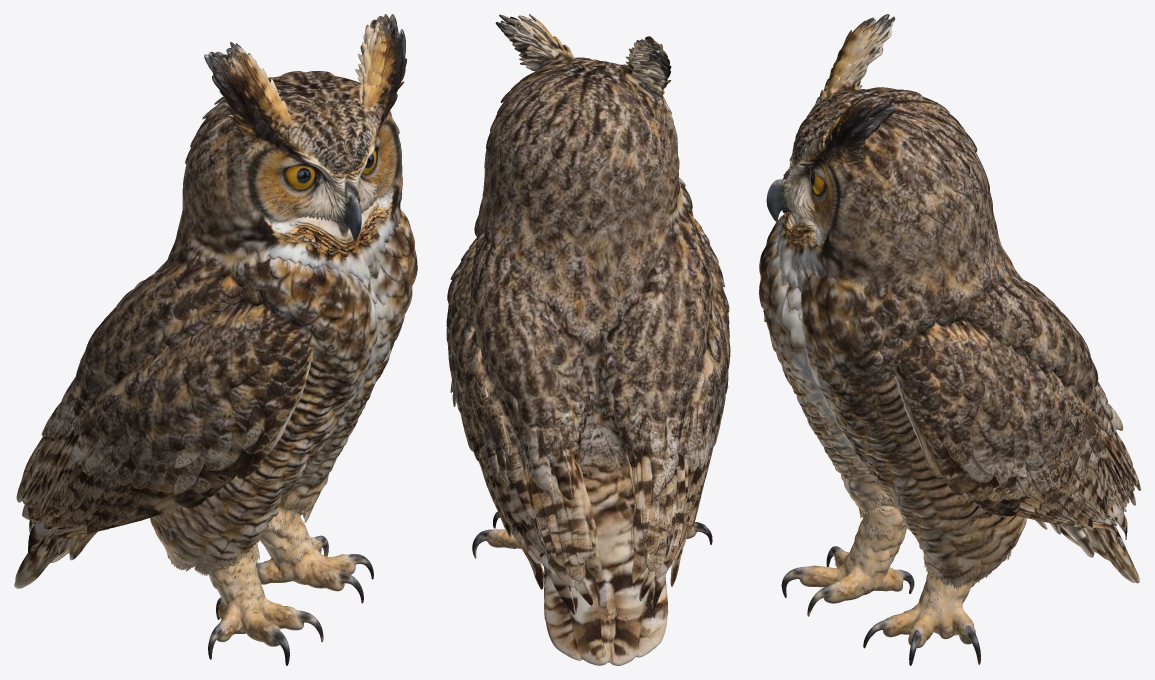
Rendered from owl.meshopt.glb.
The picture shows the model from 3 angles, left to right: view 1: azimuth 30°, elevation 25°; view 2: azimuth 150°, elevation 25°; view 3: azimuth 270°, elevation 25°; orthographic projection. The views are drawn at different scales.
Visible parts, largest first — view 1: owl; view 2: owl; view 3: owl.
Part boxes in pixels (bbox=[...]): owl: bbox=[14, 14, 417, 665]; owl: bbox=[446, 14, 730, 665]; owl: bbox=[759, 14, 1140, 665].
Size of the model in its own units: 0.2883 by 0.55 by 0.321.
Materials: 1 (1 with a texture image).
